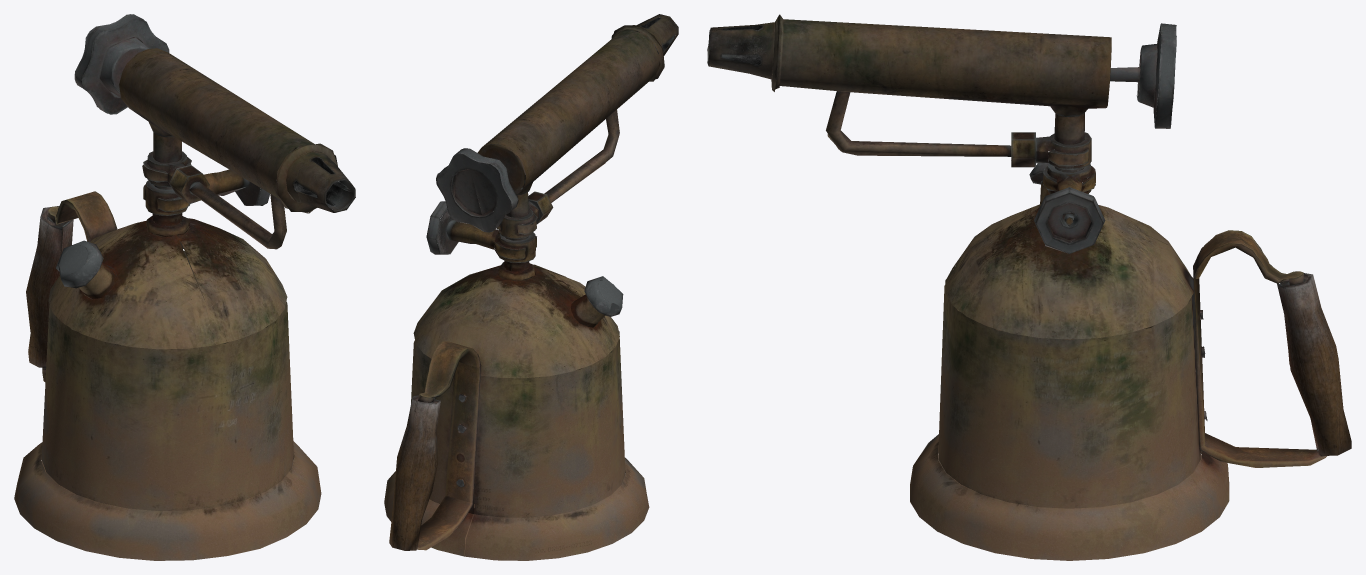
Rendered from brass_blowtorch.glb.
3 renders of one model, left to right at view 1: azimuth 30°, elevation 25°; view 2: azimuth 150°, elevation 25°; view 3: azimuth 270°, elevation 25°, orthographic. The views are drawn at different scales.
Visible parts, largest first — view 1: brass_blowtorch; view 2: brass_blowtorch; view 3: brass_blowtorch.
Boxes of the visible parts, <box> form: brass_blowtorch: <box>14,14,355,560</box>; brass_blowtorch: <box>384,14,678,560</box>; brass_blowtorch: <box>707,14,1351,560</box>.
Size of the model in its own units: 0.1292 by 0.2105 by 0.2589.
Materials: 1 (1 with a texture image).
